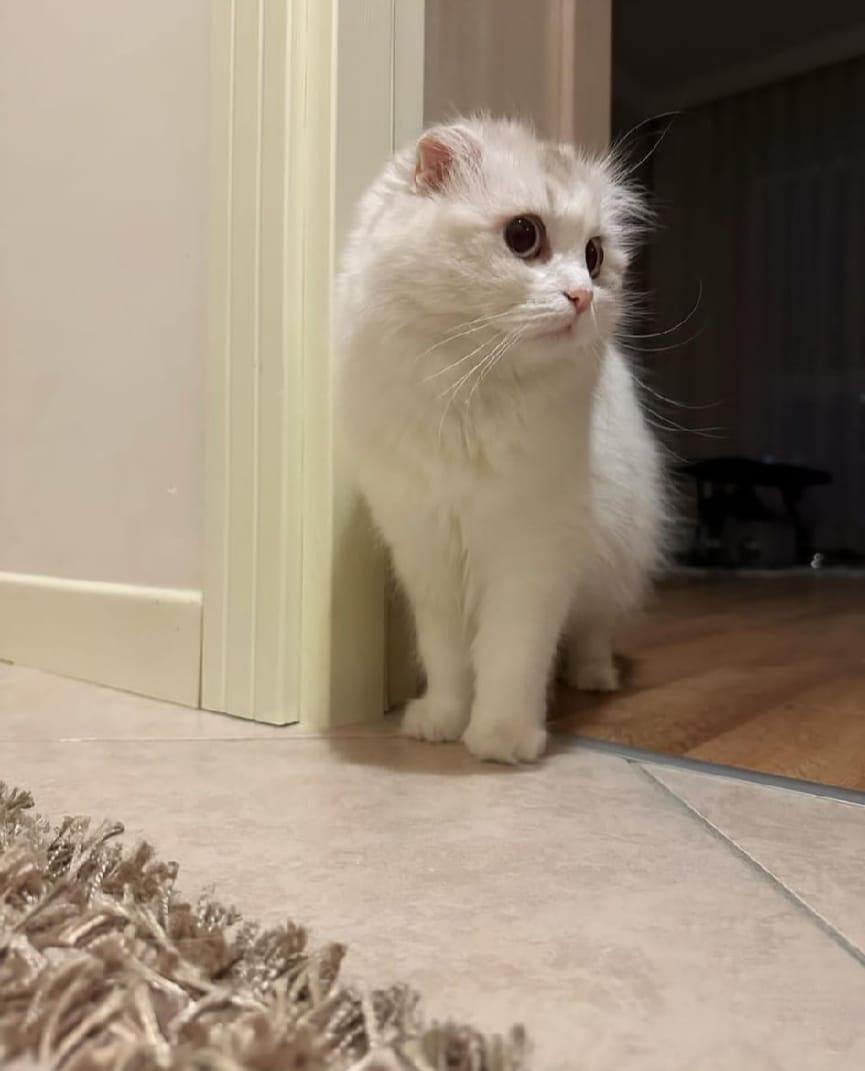kedo: (323, 115, 662, 746)
